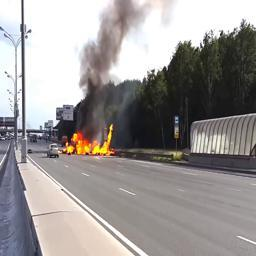fire: (63, 124, 114, 156)
